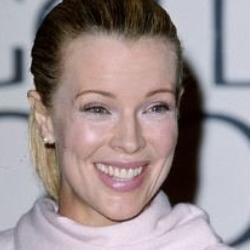face: (20, 2, 190, 227)
